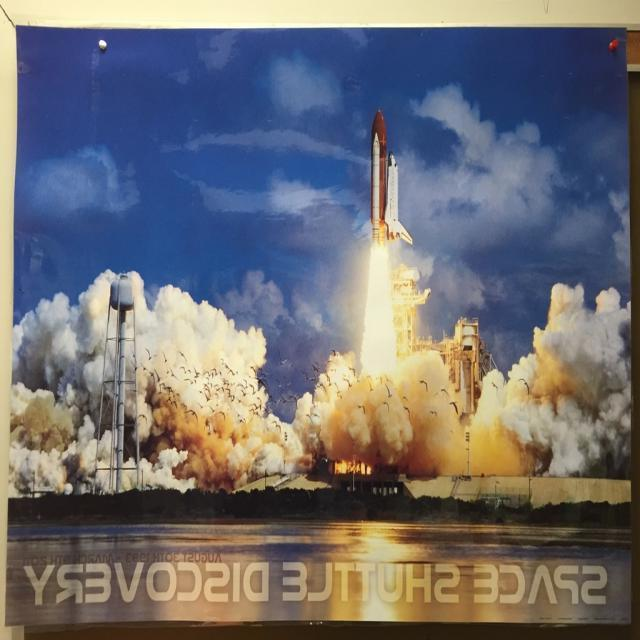missile: (381, 151, 400, 242), (369, 130, 383, 244)
